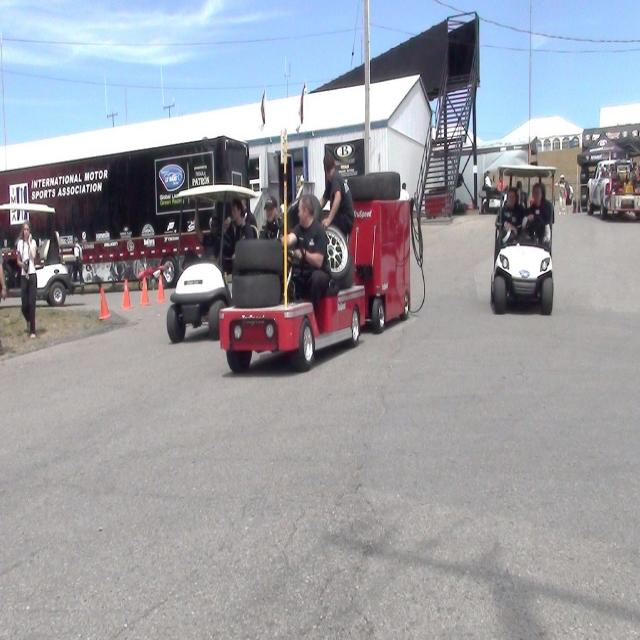car: (487, 157, 554, 319), (0, 198, 74, 309)
